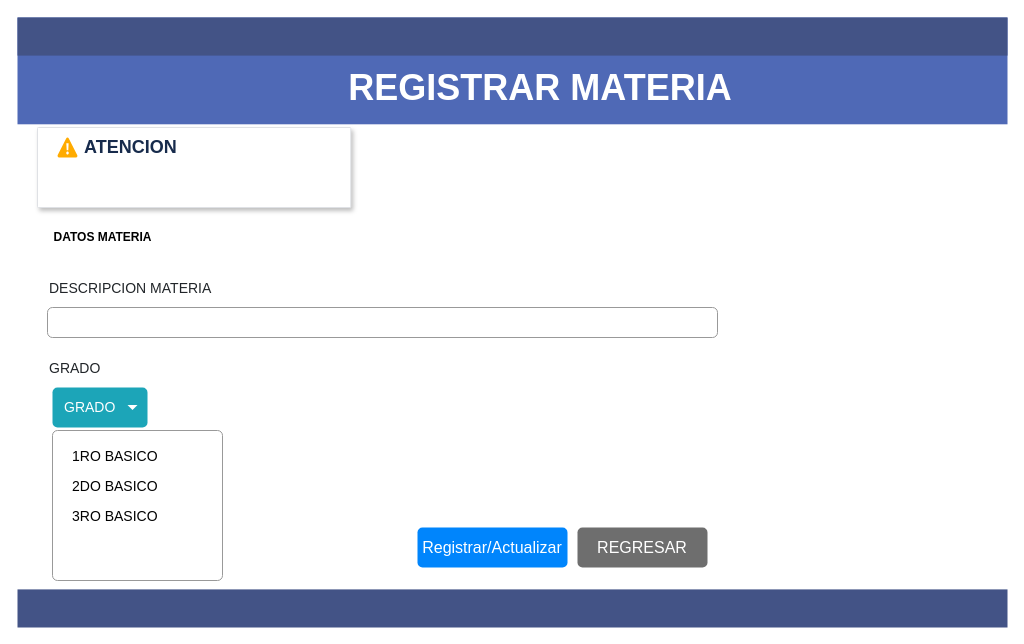
This 1024x644 diagram has some shape labels left out. The centre of each missing label's shape, as x and y in pixels:
"escriba la descripcion" belongs at (x=382, y=322).
"LOS DATOS REQUERIDOS SON OBLIGATORIOS" belongs at (x=194, y=168).
